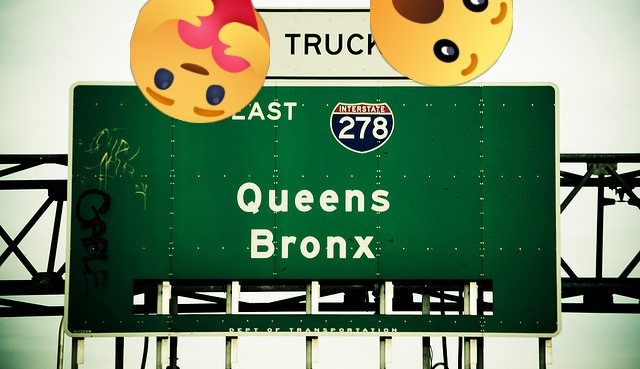care: (130, 0, 270, 123)
wow: (370, 0, 513, 86)
